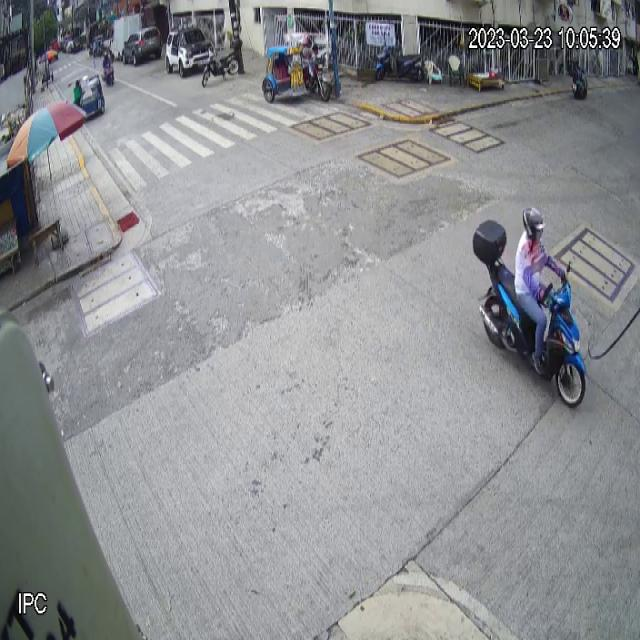Motorcycle: (472, 218, 587, 408)
